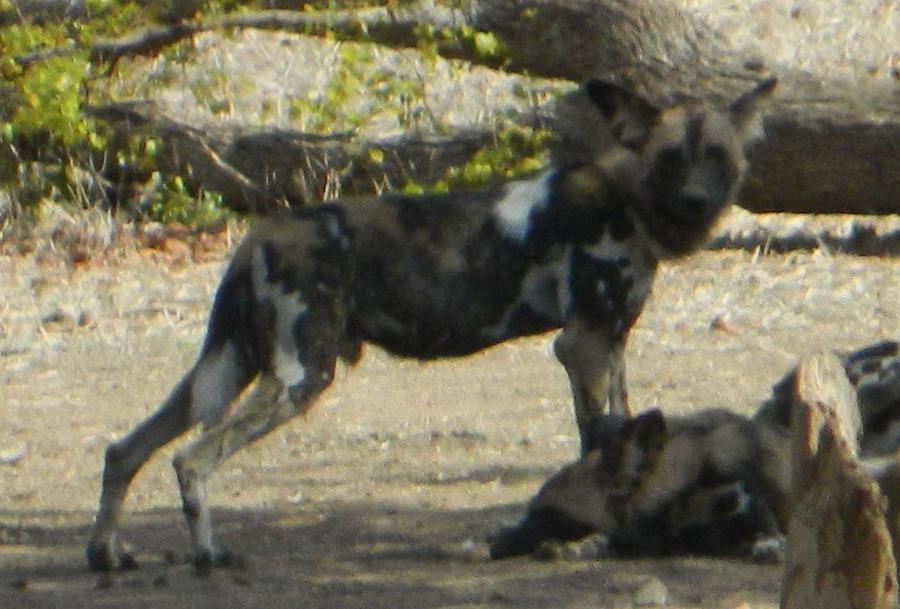wilddog: (1, 1, 900, 609)
